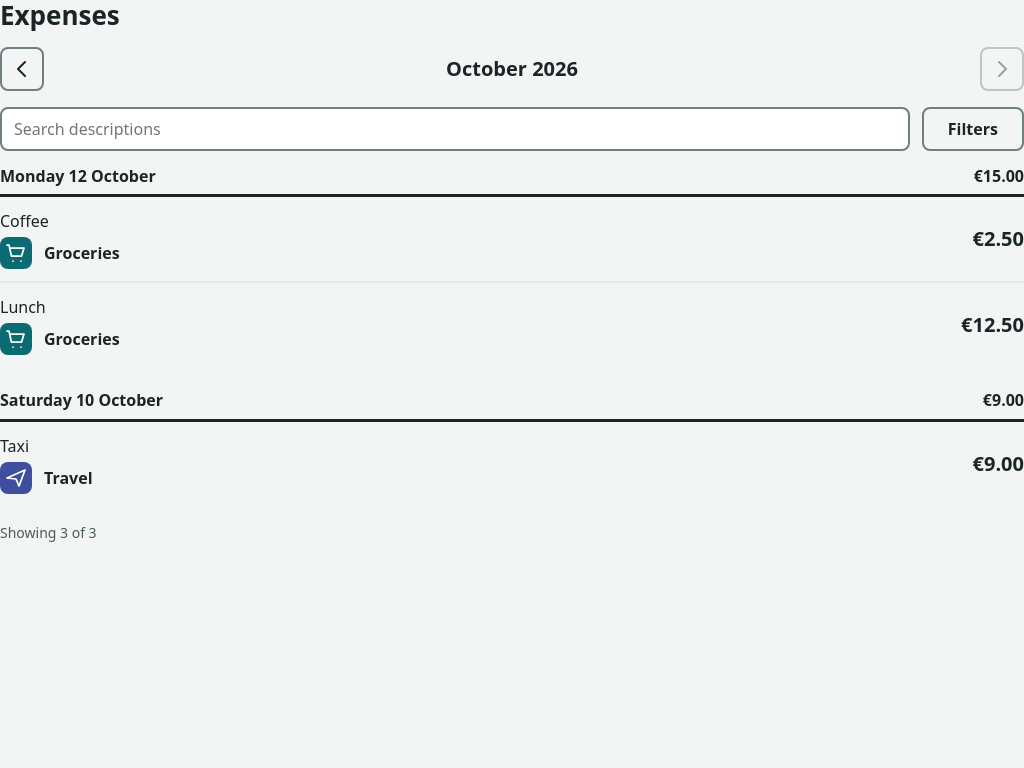
ExpensesView › filters by period and category from the filter sheet
The width and height of the screenshot is (1024, 768).
Click the button "Filters" at (973, 129), box [922,107,1023,151]
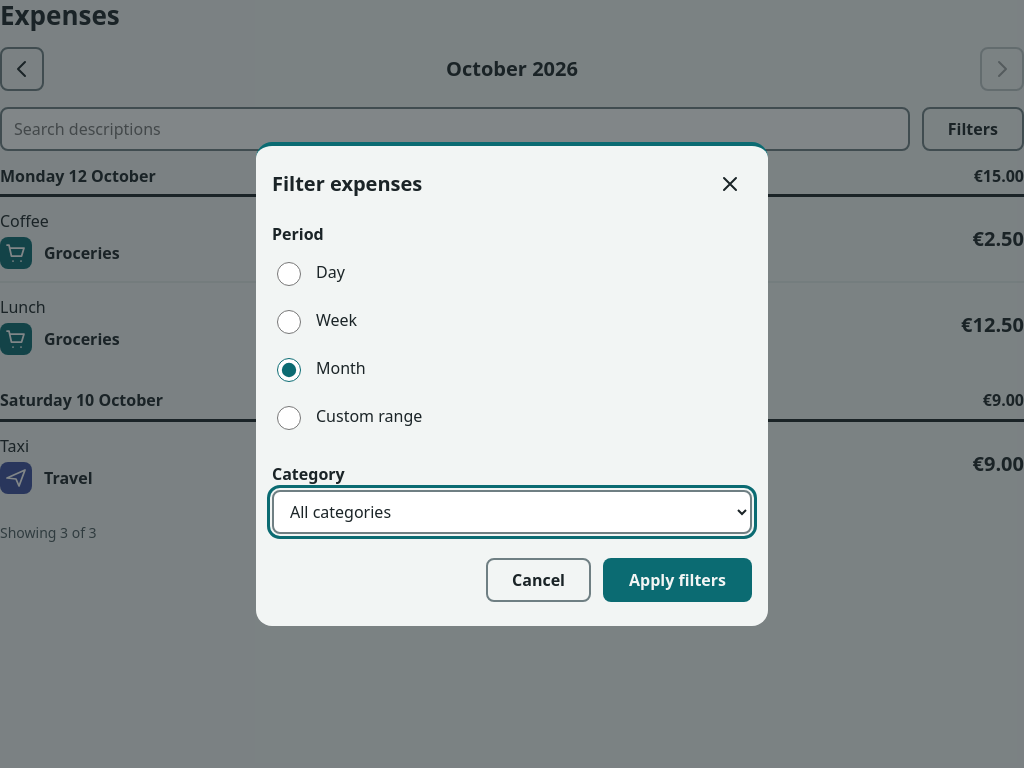
Expected: the heading "Filter expenses" is shown, [272,172,422,196]
Click the radio button labelled "Week" at (289, 322), box [277,310,301,334]
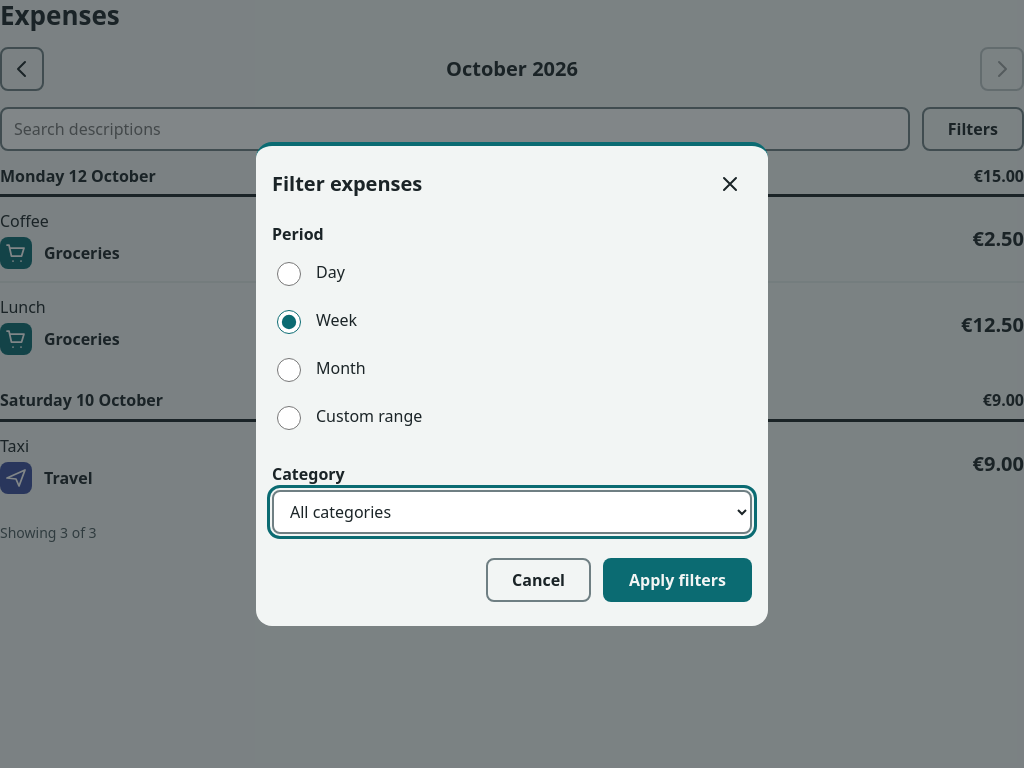
Select "Travel" in the dropdown labelled "Category" at (512, 512), box [272,490,752,534]
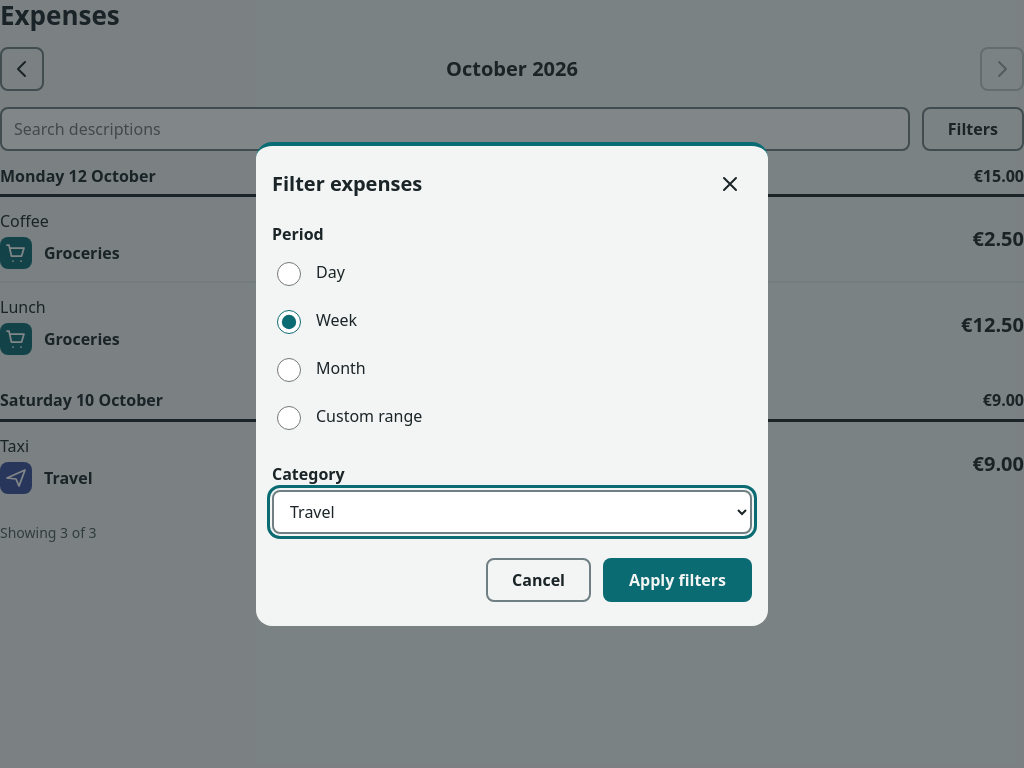
Submit the form, box [272,222,752,602]
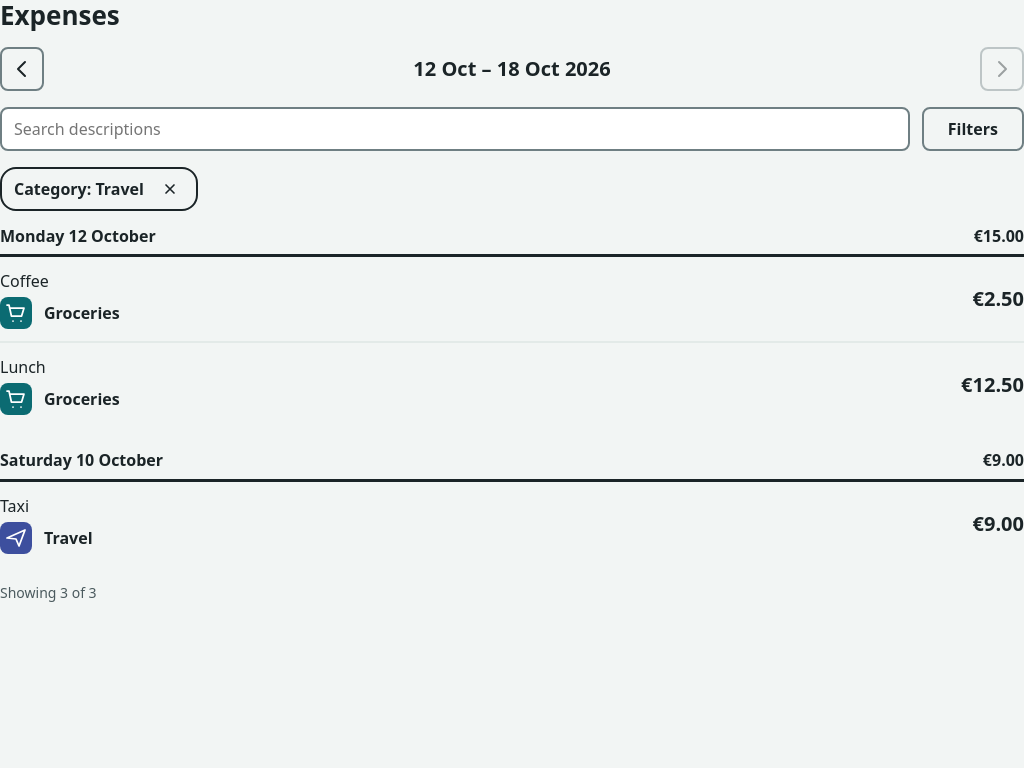
Expected: the element showing "Category: Travel" is shown, [0,167,198,211]
